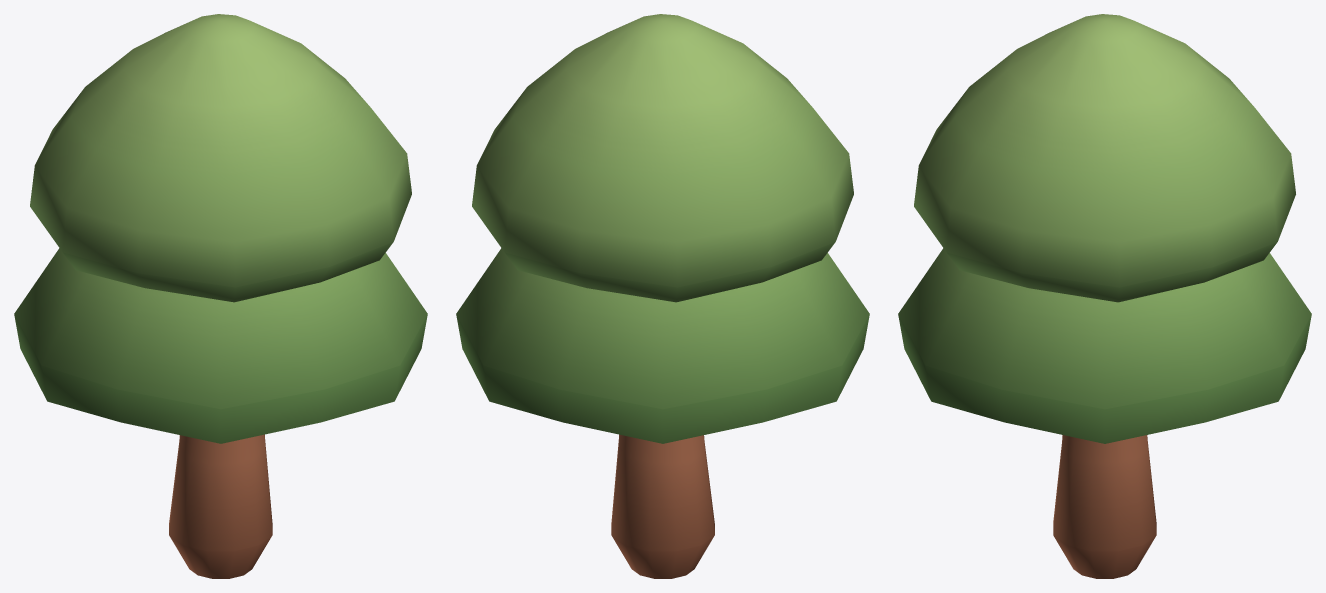
The model's file is tt_tree.glb.
3 views of the same model, side by side, from view 1: azimuth 30°, elevation 25°; view 2: azimuth 150°, elevation 25°; view 3: azimuth 270°, elevation 25° (orthographic).
Visible parts, largest first — view 1: tree_small; view 2: tree_small; view 3: tree_small.
Boxes of the visible parts, <box> form: tree_small: <box>14,14,427,578</box>; tree_small: <box>456,14,869,578</box>; tree_small: <box>898,14,1311,578</box>.
Bounding box in the file's own units: 1.98 × 2.88 × 1.98.
1 material, 1 textured.
